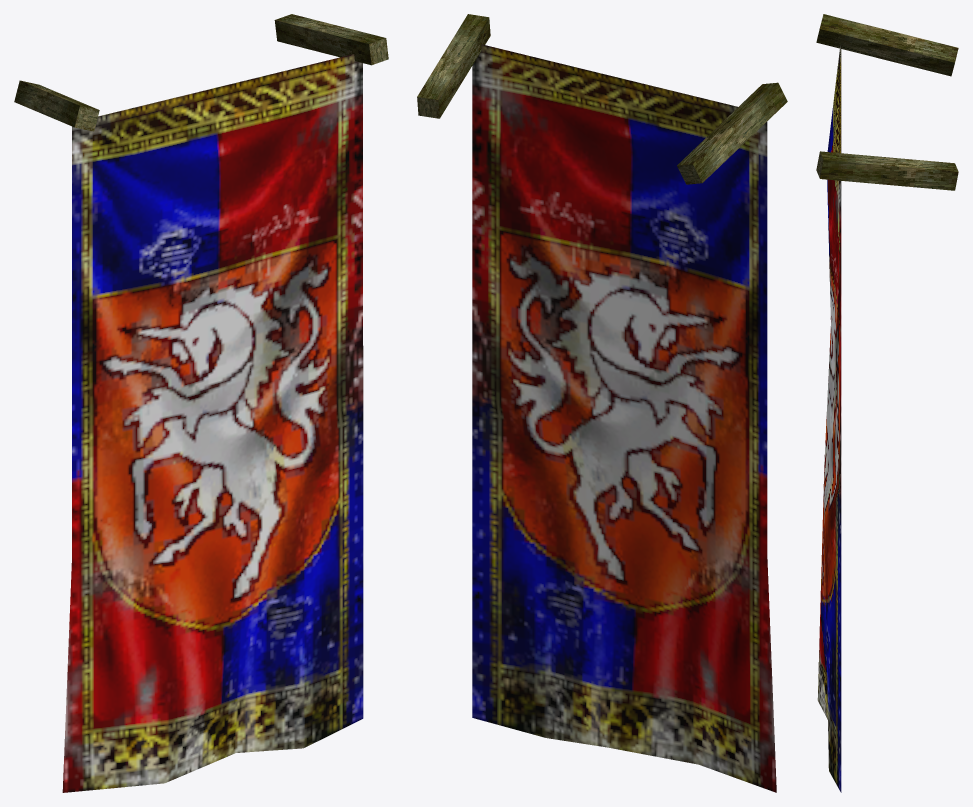
3 renders of one model, left to right at view 1: azimuth 30°, elevation 25°; view 2: azimuth 150°, elevation 25°; view 3: azimuth 270°, elevation 25°, orthographic. The views are drawn at different scales.
Visible parts, largest first — view 1: tn5_fl1-col; view 2: tn5_fl1-col; view 3: tn5_fl1-col.
Part boxes in pixels (bbox=[...]): tn5_fl1-col: bbox=[14, 14, 388, 792]; tn5_fl1-col: bbox=[417, 14, 787, 792]; tn5_fl1-col: bbox=[816, 14, 958, 792].
Size of the model in its own units: 2.14 by 4.56 by 0.899.
Materials: 2 (2 with a texture image).
